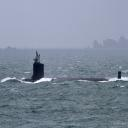submarine: (14, 50, 124, 81)
